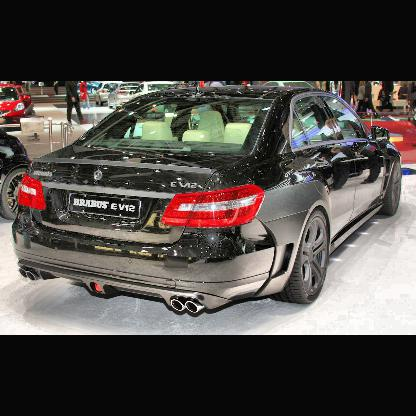Mercedes-Benz E-Class Sedan 2012: (12, 89, 403, 315)
